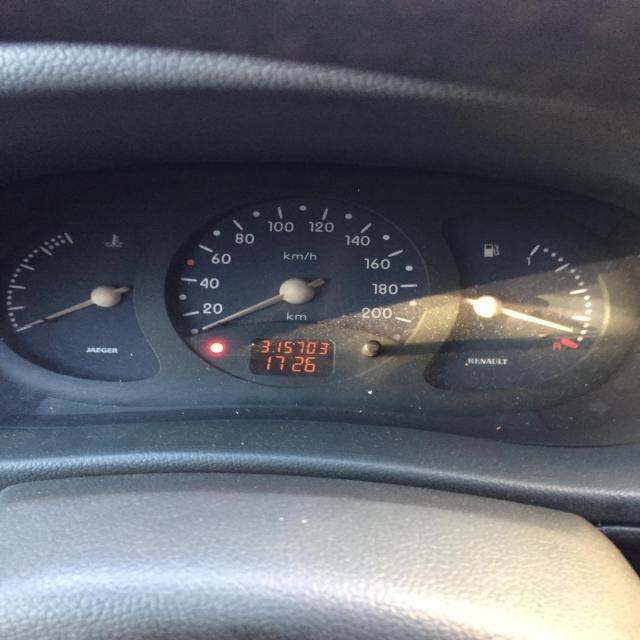odometer: (248, 336, 335, 378)
